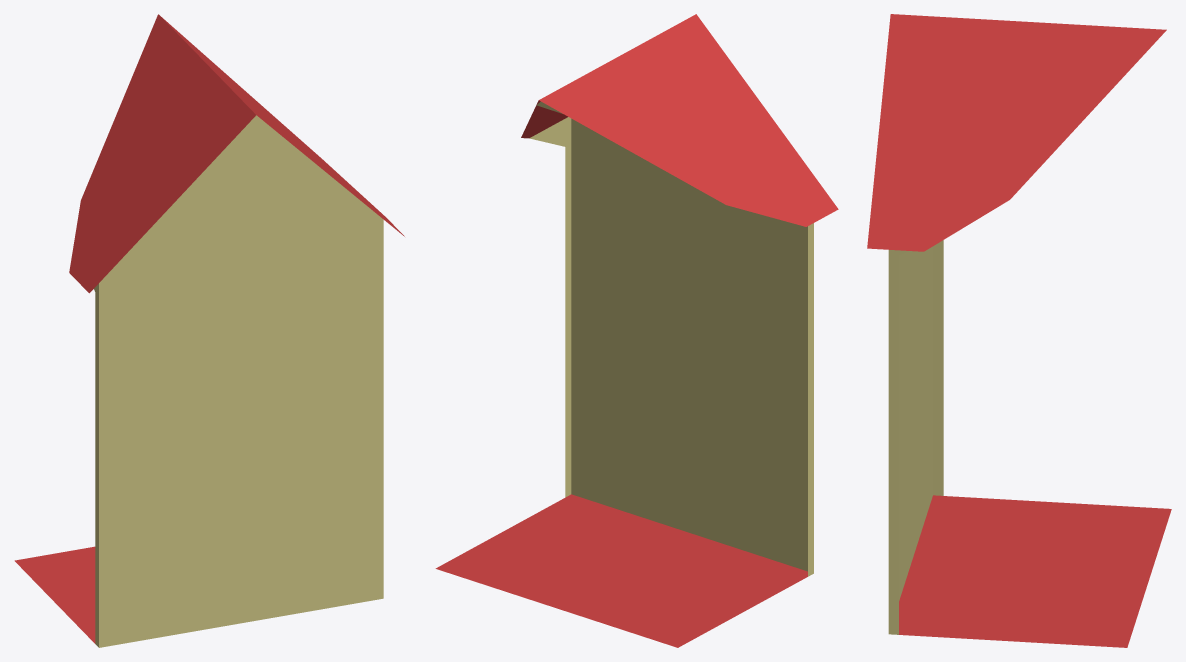
The picture shows the model from 3 angles, left to right: view 1: azimuth 30°, elevation 25°; view 2: azimuth 150°, elevation 25°; view 3: azimuth 270°, elevation 25°; orthographic projection. The views are drawn at different scales.
Bounding box in the file's own units: 10.03 × 7.99 × 16.02.
